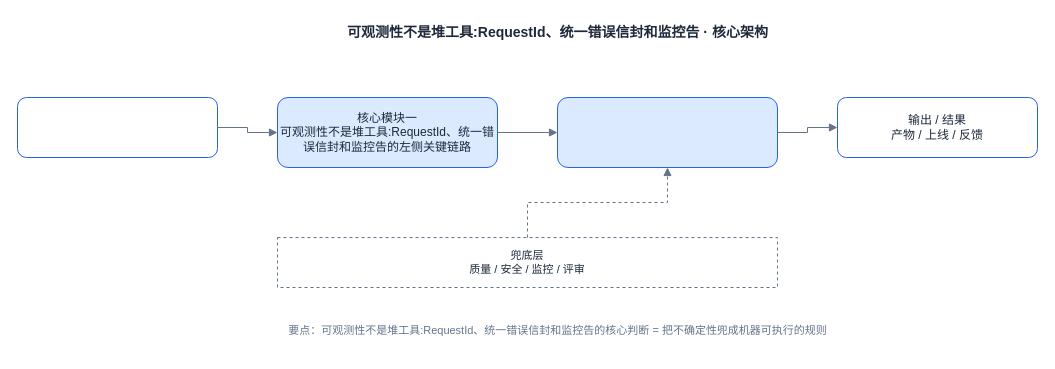
The diagram is 1055 pixels wide and 369 high, and some of its shapes have lost their labels. Here are the shapes that lost their labels. From the top down, the centre of each, then its label:
(x=117, y=127): 输入层 需求 / 数据 / 上游调用
(x=667, y=132): 核心模块二 可观测性不是堆工具:RequestId、统一错误信封和监控告的右侧关键链路
